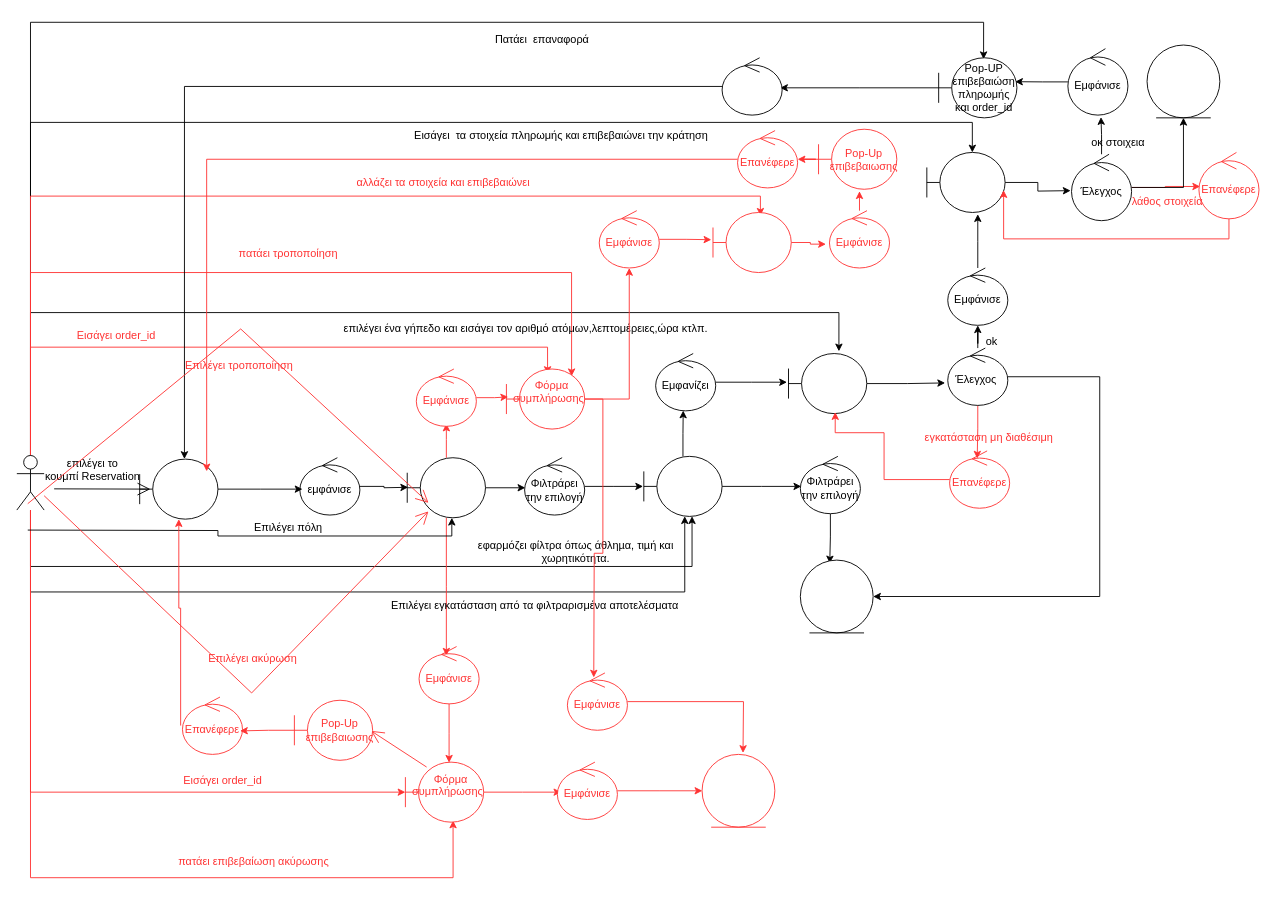
Image size: 1275x901. Some labels were removed from this diagram. The shapes that lost their labels are listed below. From the top down, each one's box as (x1, y1, x2, y2) in pixels, then its label:
(721, 57, 782, 115): Επιστροφή
(1146, 44, 1220, 118): Στοιχεία Πληρωμής
(926, 152, 1005, 212): Φόρμα πληρωμής
(712, 212, 791, 273): Φόρμα στοιχείων
(788, 353, 867, 414): Φόρμα εγκατάστασης και πεδία
(16, 455, 44, 510): User
(139, 458, 218, 519): Αρχικό μενού
(406, 457, 485, 518): Σελίδα με πόλεις και κουμπία δυνατοτήτων
(643, 455, 722, 516): Σελίδα με επιλεγμένες εγκαταστάσεις
(799, 559, 873, 633): Αθλητική Εγκατάσταση
(701, 753, 775, 827): Στοιχεία
